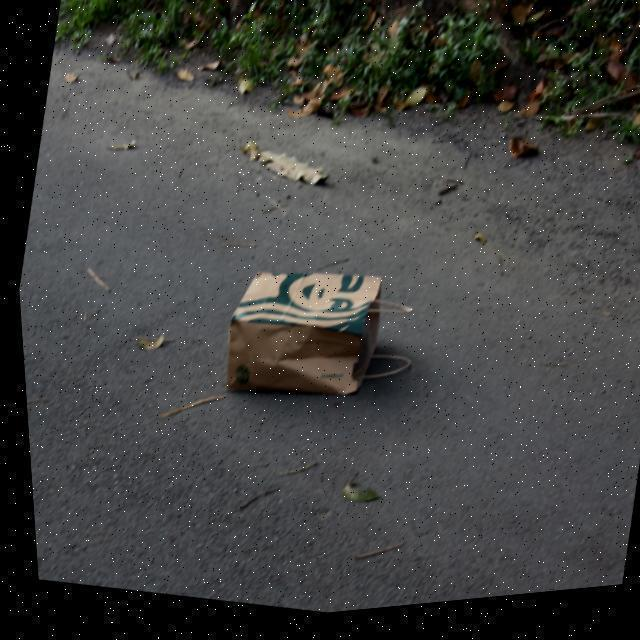Paper_Bag: (206, 250, 424, 433)
